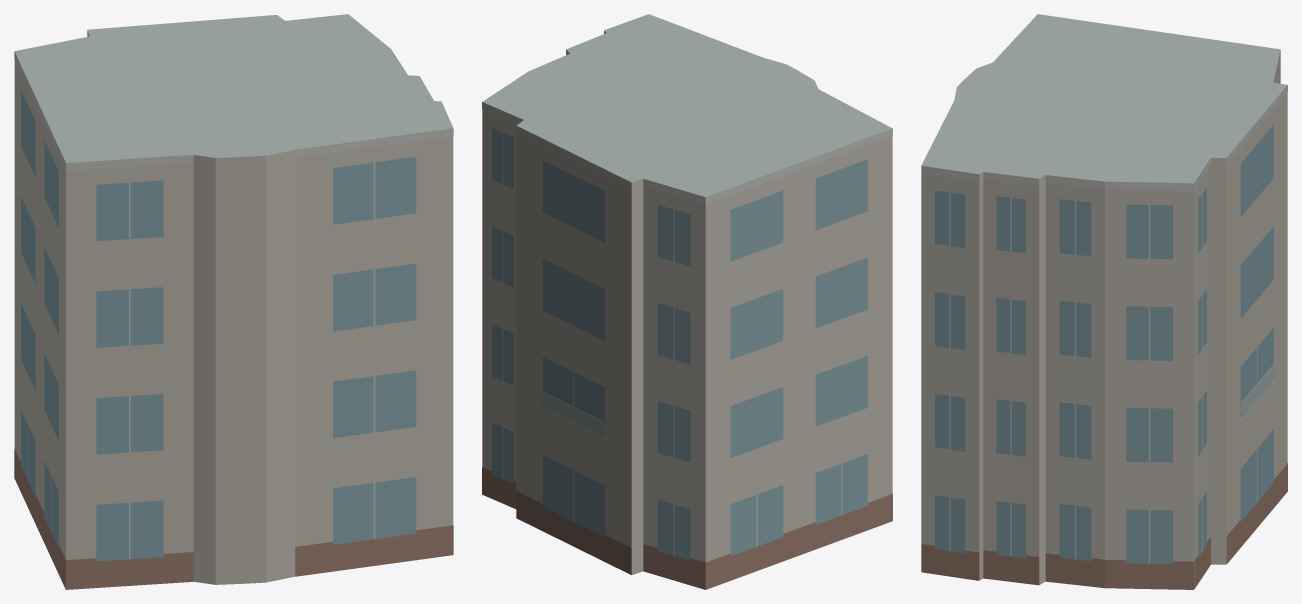
Rendered from survey-upis-32464675.glb.
The picture shows the model from 3 angles, left to right: view 1: azimuth 30°, elevation 25°; view 2: azimuth 150°, elevation 25°; view 3: azimuth 270°, elevation 25°; orthographic projection. The views are drawn at different scales.
Parts seen in each view (by area): view 1: survey-upis-32464675.tmp; view 2: survey-upis-32464675.tmp; view 3: survey-upis-32464675.tmp.
Part boxes in pixels (box(x1,y1,x2,y2)): survey-upis-32464675.tmp: box(14, 14, 453, 589); survey-upis-32464675.tmp: box(482, 14, 892, 589); survey-upis-32464675.tmp: box(921, 14, 1287, 589).
Size of the model in its own units: 11.8 by 13.2 by 10.79.
